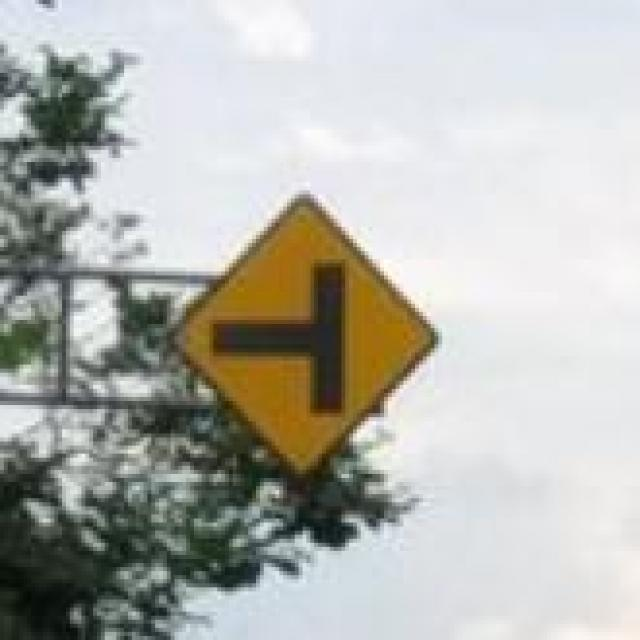traffic sign: (179, 203, 427, 482)
